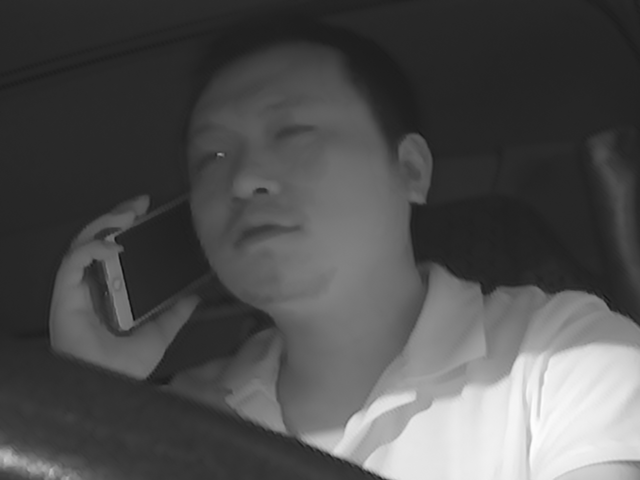hand: (47, 195, 197, 388)
